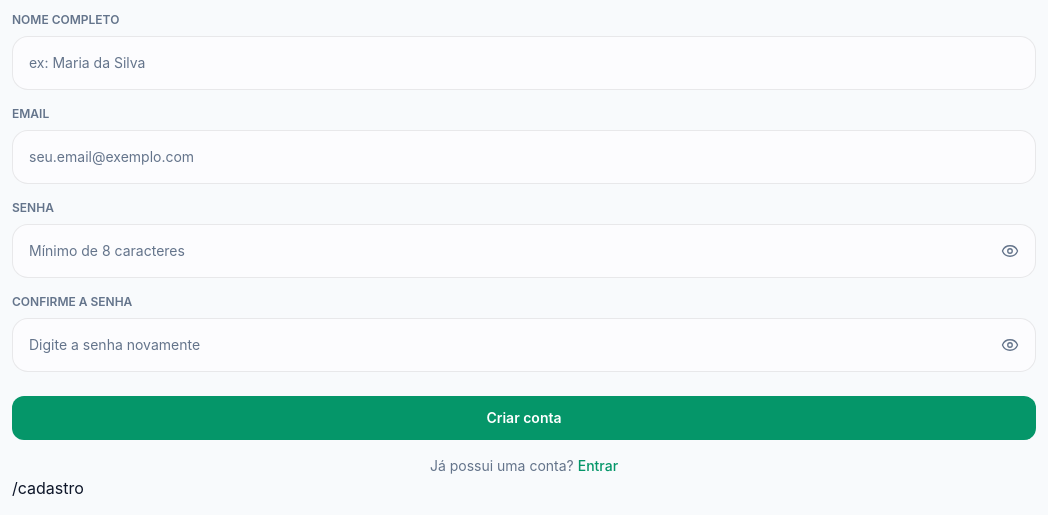
it: RegisterForm › conclui o cadastro autenticado e segue para a análise
The width and height of the screenshot is (1048, 515).
Type "Test User" into the field labelled "Nome completo". click: (524, 63)
box: [29,53,1019,73]
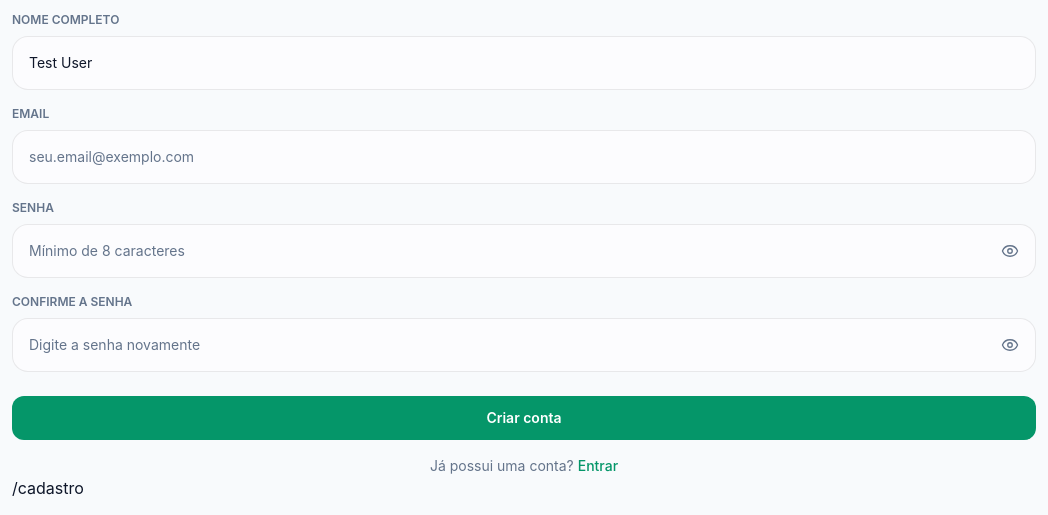
Type "user@example.test" into the field labelled "Email". click: (524, 157)
box: [29,147,1019,167]
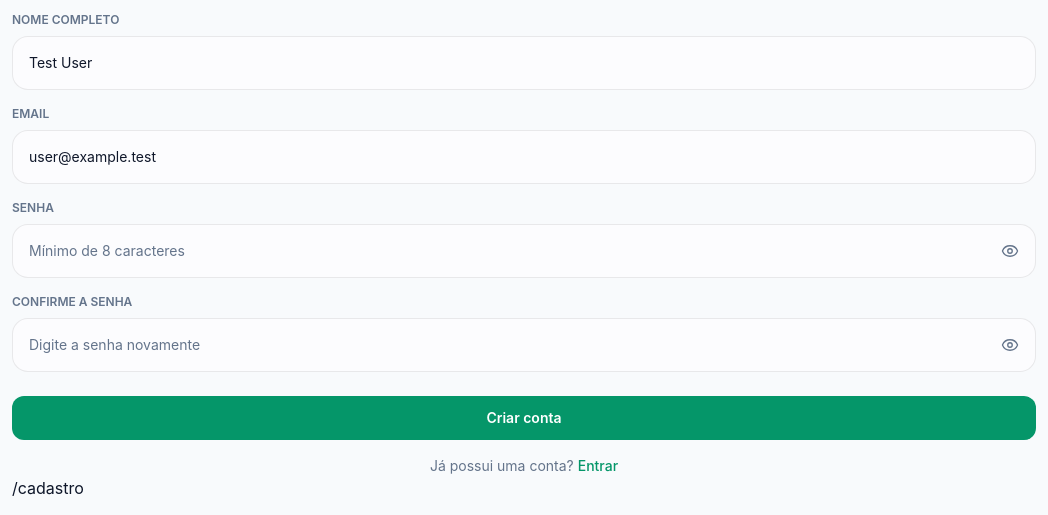
Type "password123" into the password field labelled "Senha". click: (509, 251)
box: [29,241,989,261]
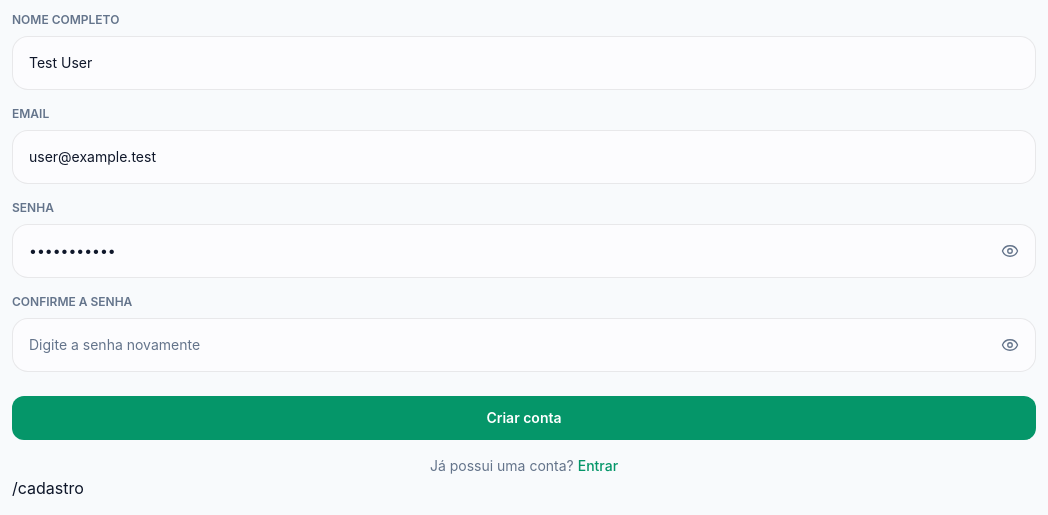
Type "password123" into the password field labelled "Confirme a senha". click: (509, 345)
box: [29,335,989,355]
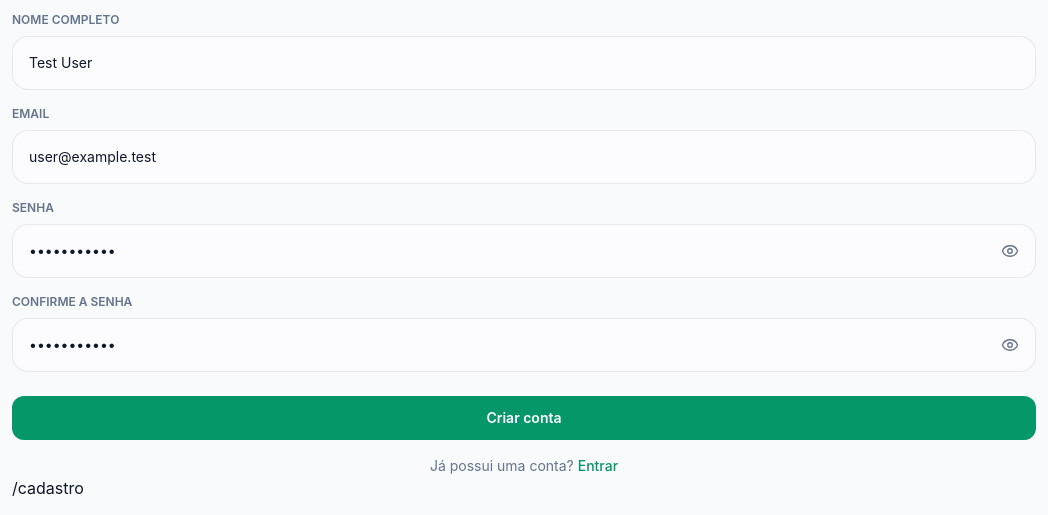
Click the button "Criar conta". click: (524, 418)
box: [12,396,1036,440]
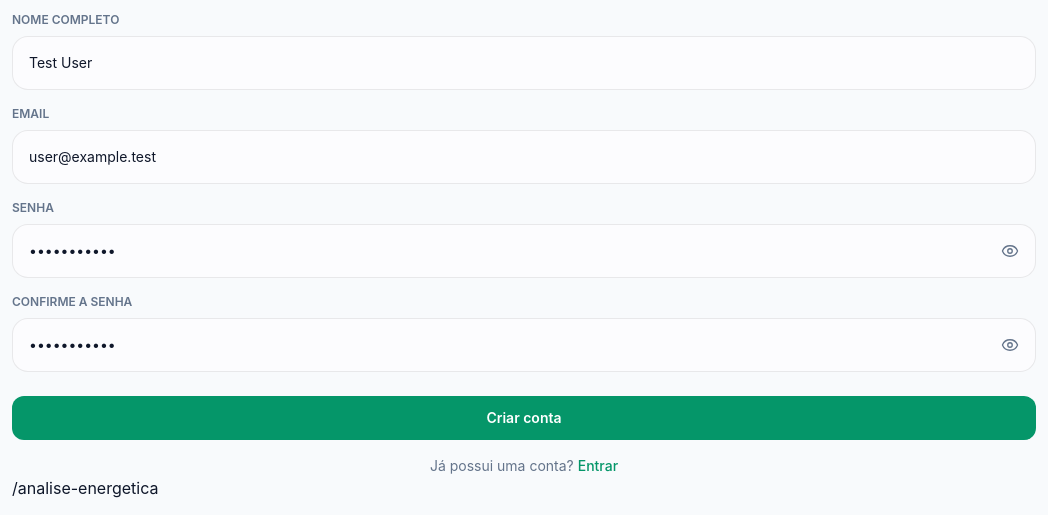
Expected: the text "/analise-energetica" does not show "/login", [12,478,158,498]
Result: the text "/analise-energetica" is shown at [12,478,158,498]
